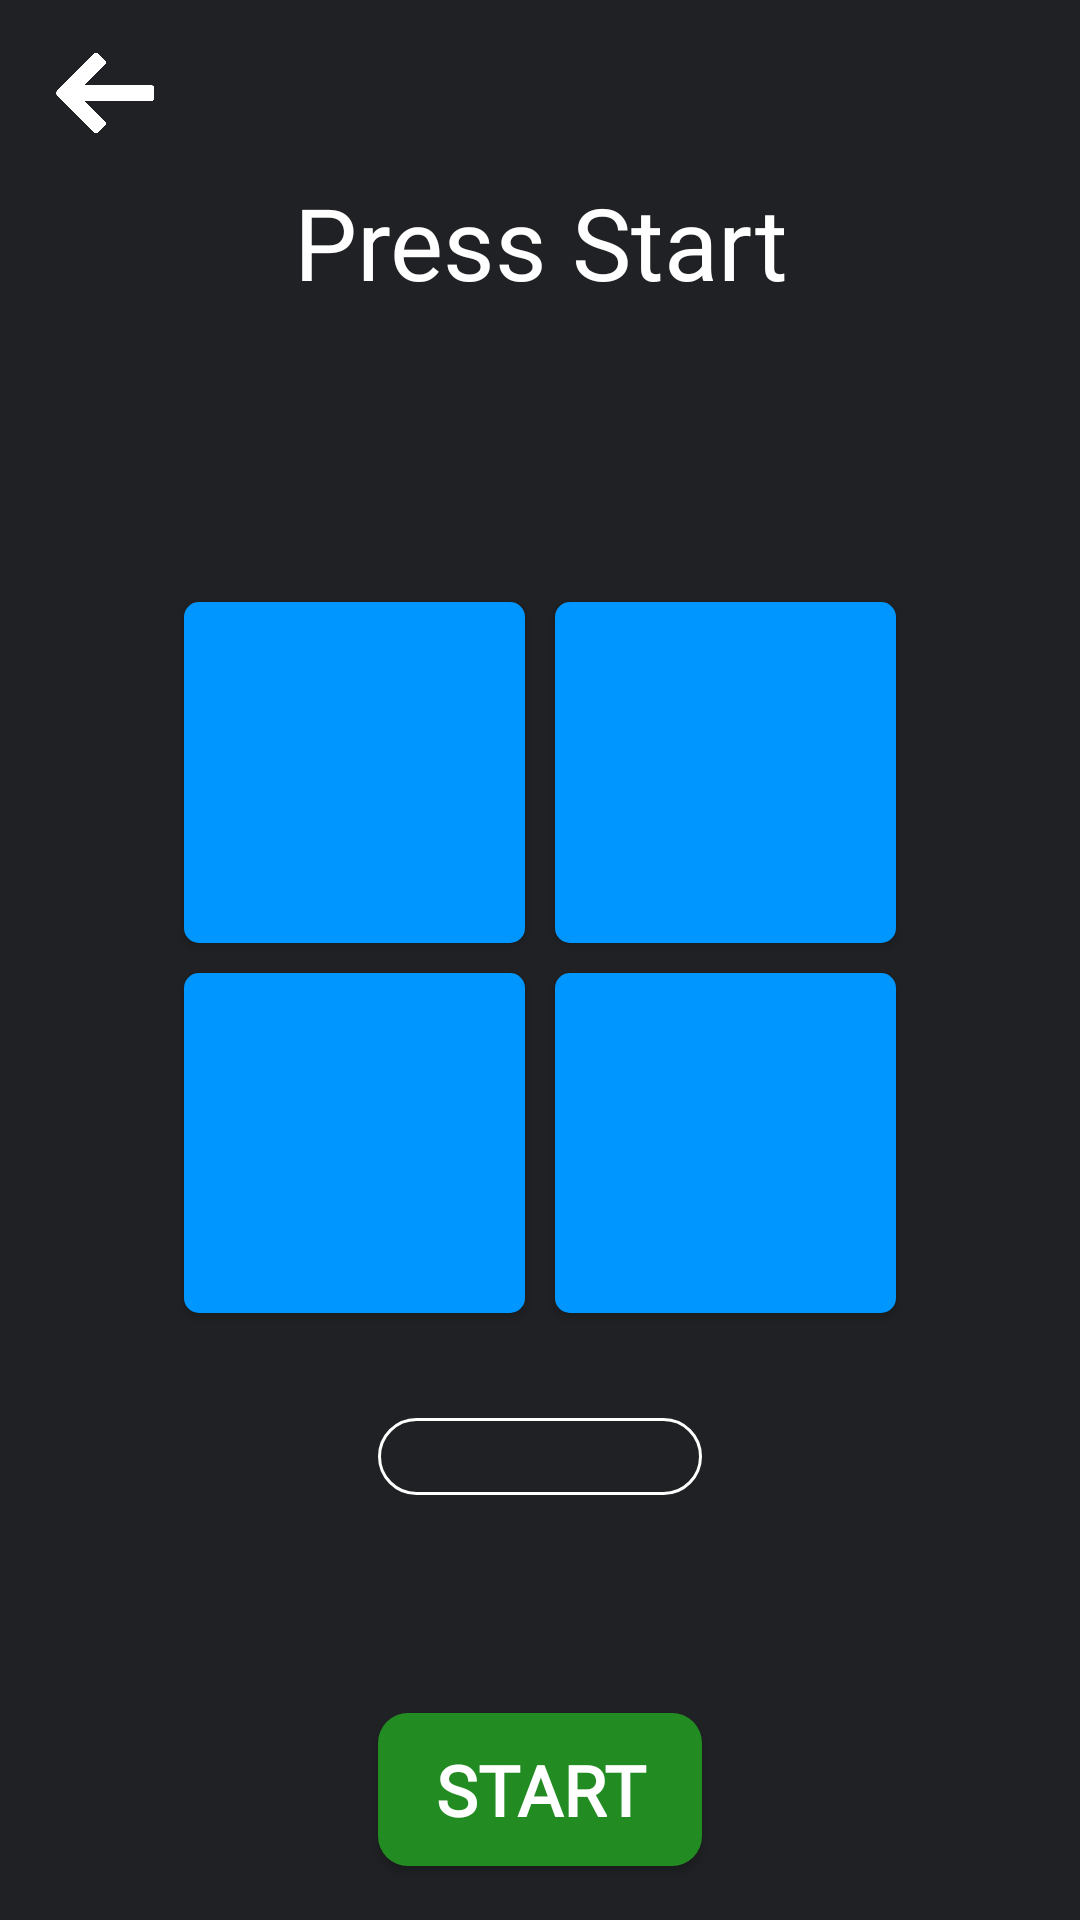

Named icons in this screenshot (1080px x 1920px) and their centers, (x=x, y=y):
Closes the activity: (x=105, y=93)
